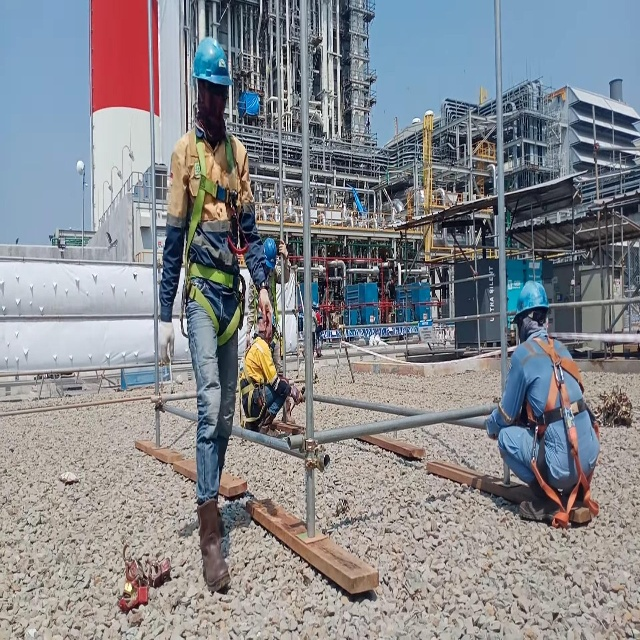Arnes_seguridad: (525, 329, 602, 529), (179, 126, 247, 344), (238, 341, 270, 431)
